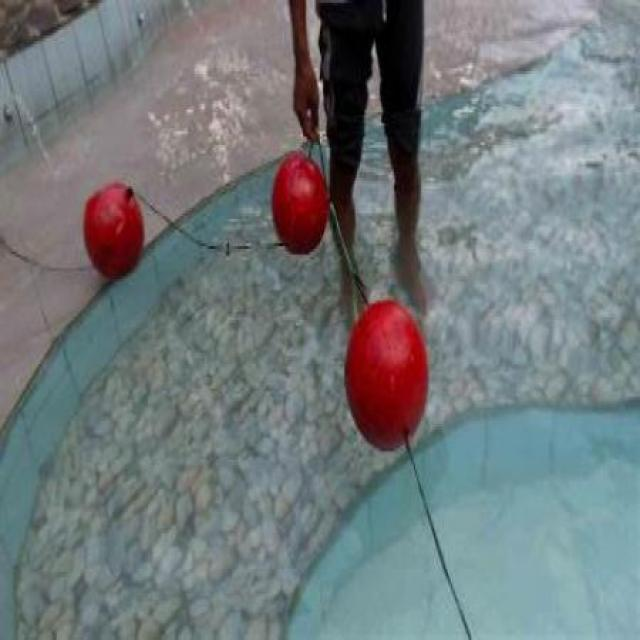buoy: (343, 298, 429, 452), (81, 179, 144, 280), (269, 152, 328, 258)
